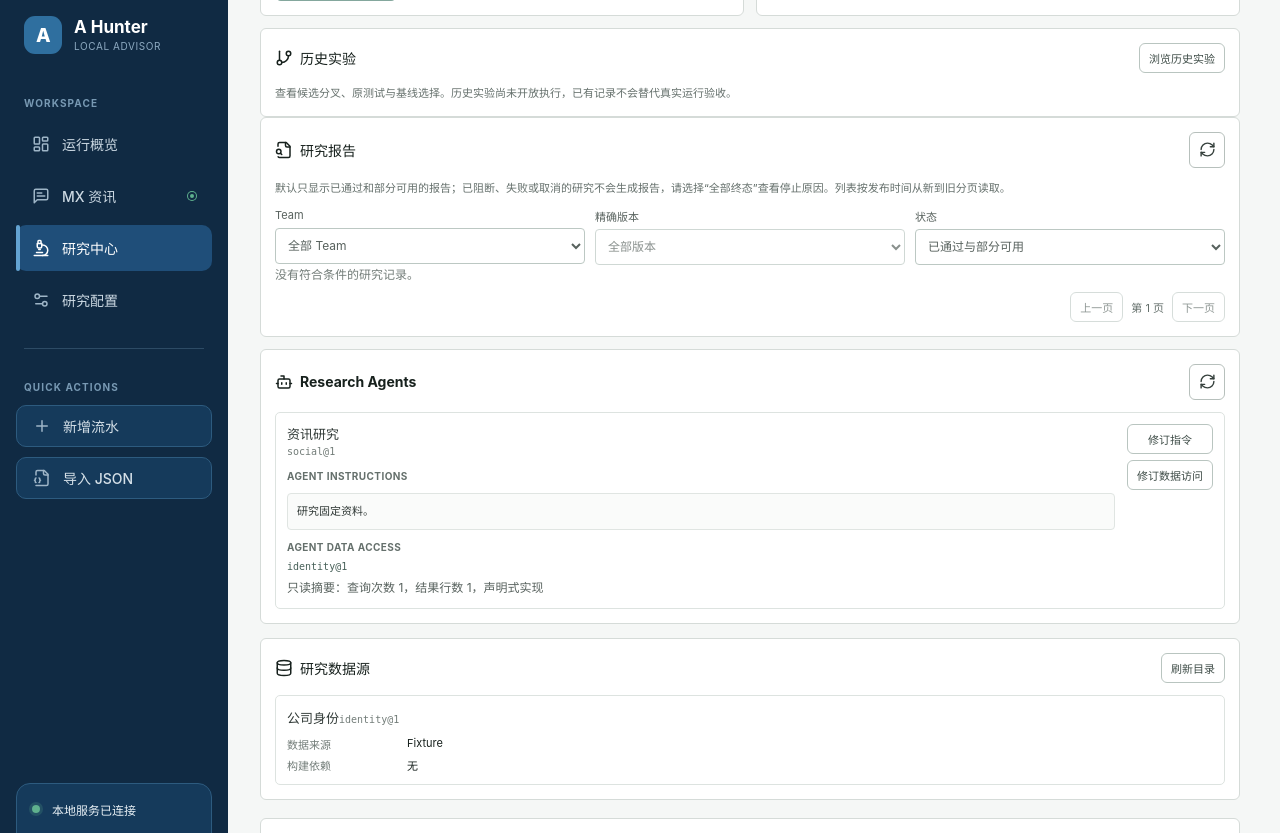
Test case: top-level navigation › does not leave Research Configuration with an unpublished Instructions draft without confirmation
(page scrolled)
Click the button "修订指令".
click(1170, 439)  # box [1127, 424, 1213, 454]
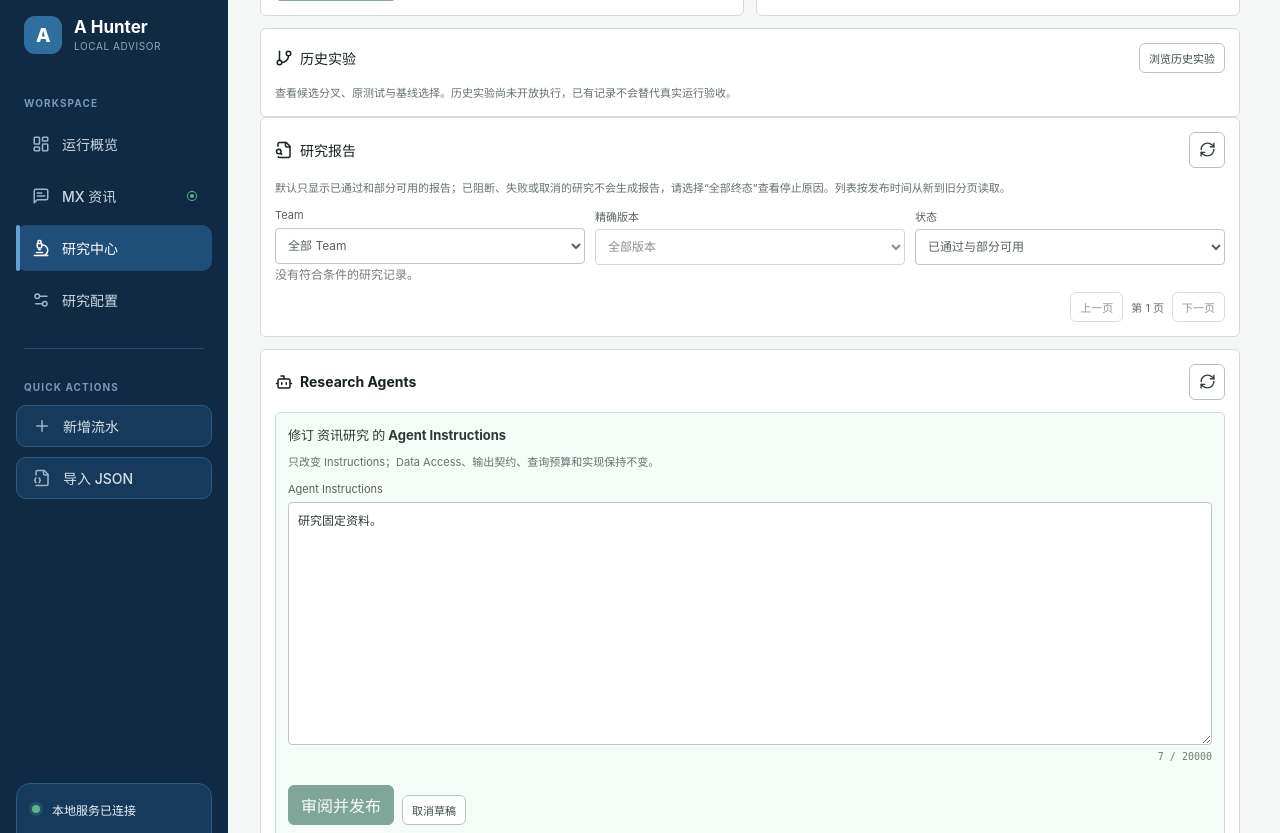
Type "新增要求" into the text box labelled "Agent Instructions".
click(750, 623); type("新增要求")  # box [288, 502, 1212, 745]
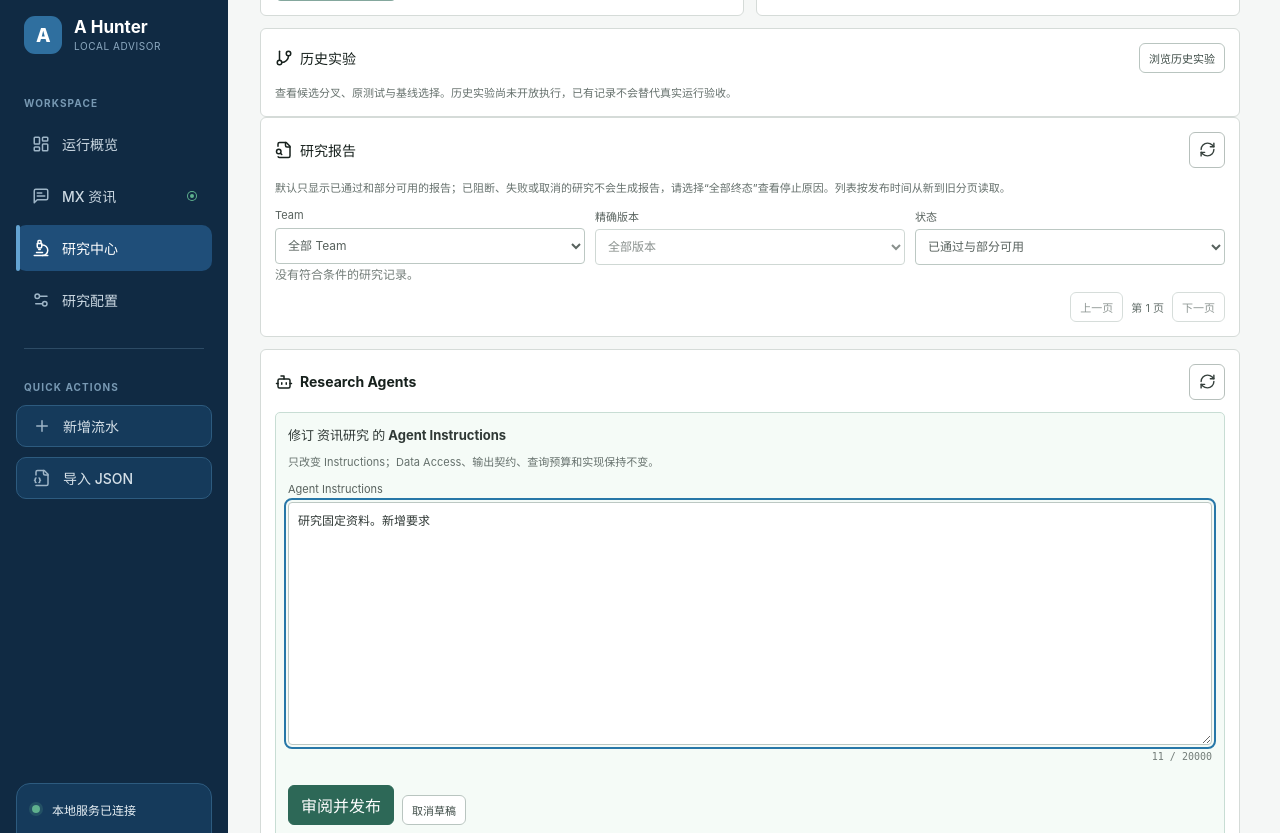
Click the link with aria-label "MX 监听".
click(114, 196)  # box [32, 187, 196, 205]
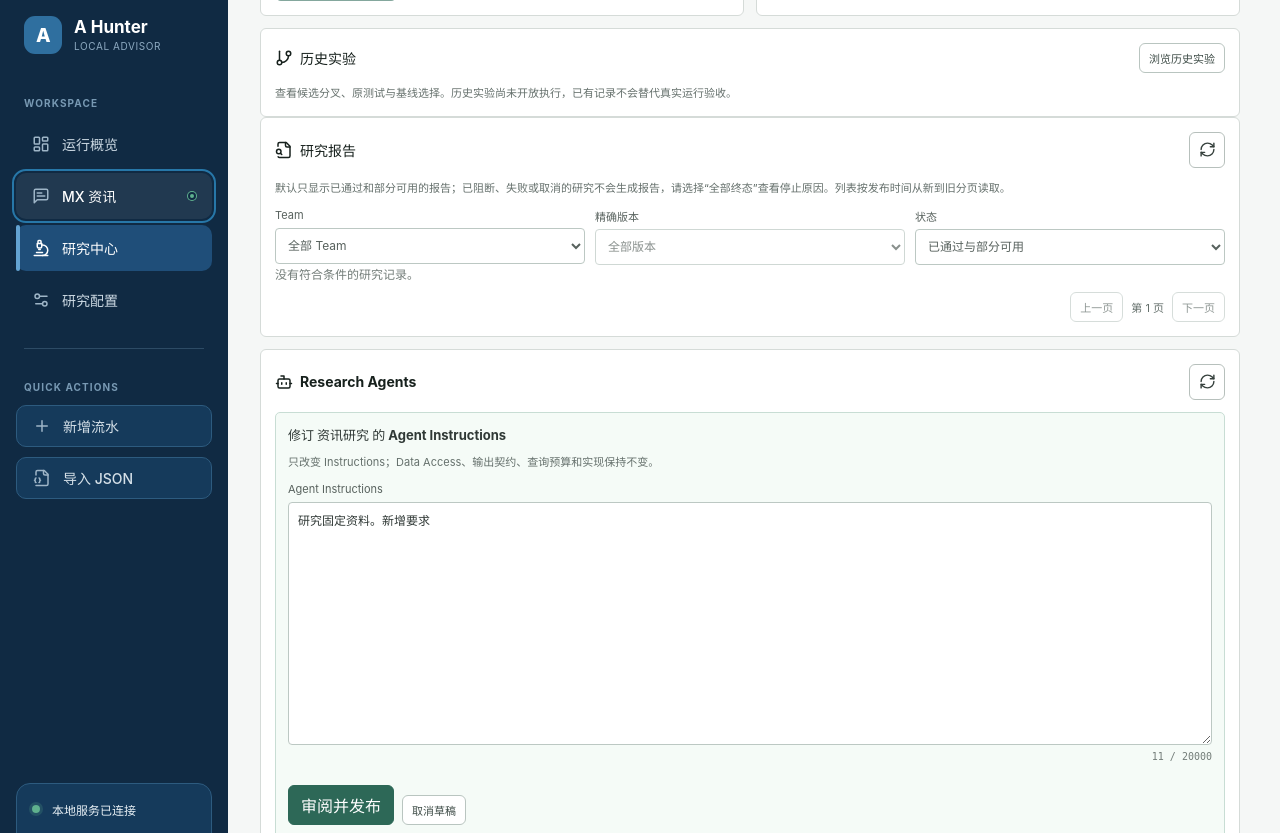
Expected: the text box labelled "Agent Instructions" is shown, [288, 502, 1212, 745]
Click the link with aria-label "MX 监听".
click(114, 196)  # box [16, 173, 212, 219]
(page scrolled)
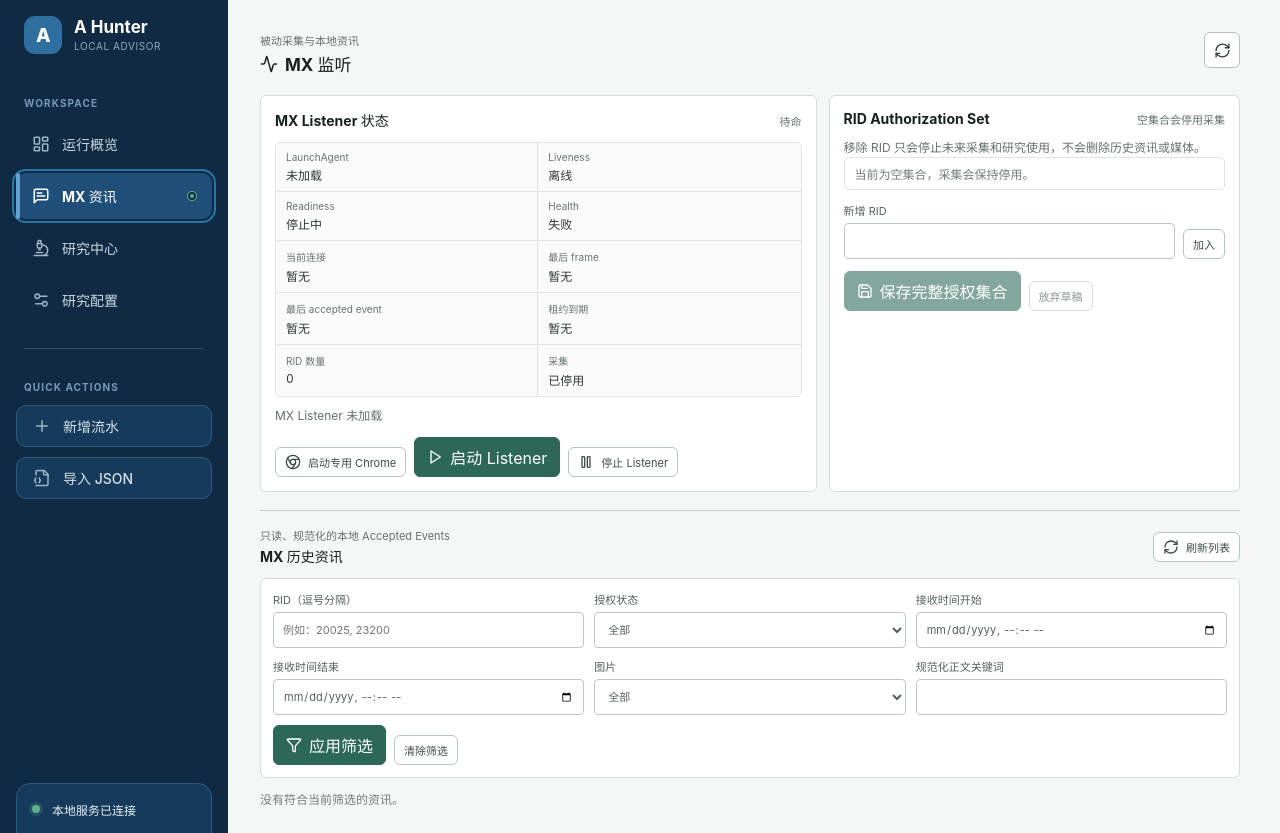
Expected: the heading "MX 历史资讯" is shown, [260, 548, 343, 565]
